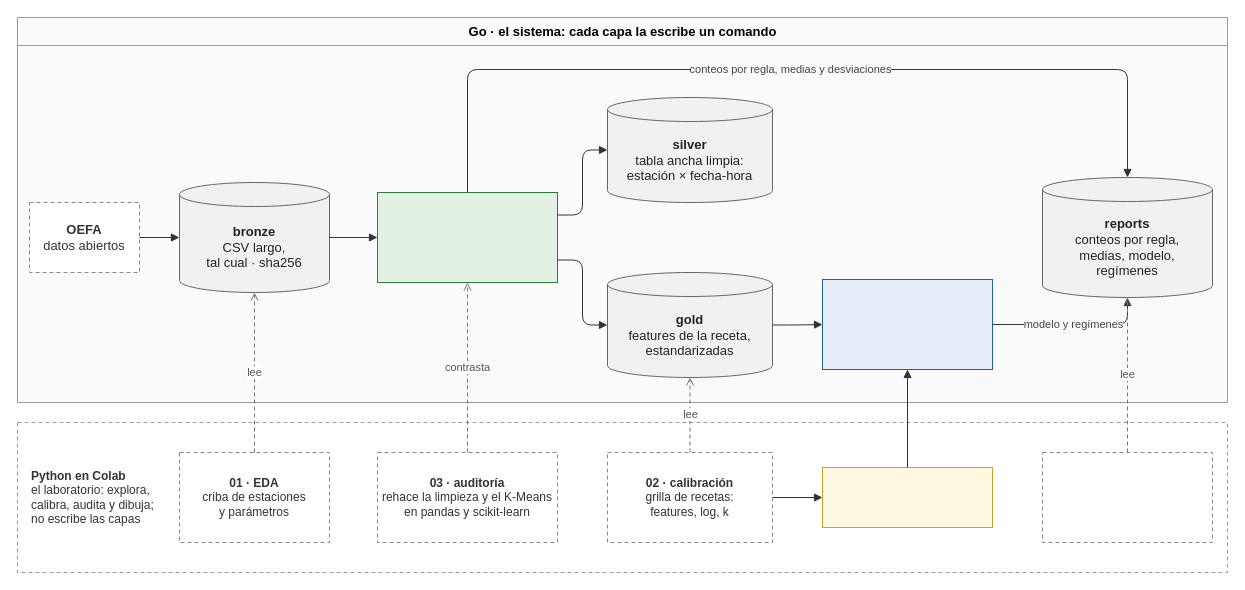
Some shapes in this 1245 by 590 pixel diagram are drawn without their labels. Here are the shapes that lost their labels. From the top down, the centre of each, then its label:
At point (467, 237): "cmd/cargar cargador concurrente: reglas 1–8, pivot, z-score".
At point (907, 324): "cmd/entrenar K-Means paralelo, varias semillas".
At point (907, 497): "configs/kmeans.json la receta congelada".
At point (1127, 497): "04 · procedencia fichas de estación, mapa y figuras".
